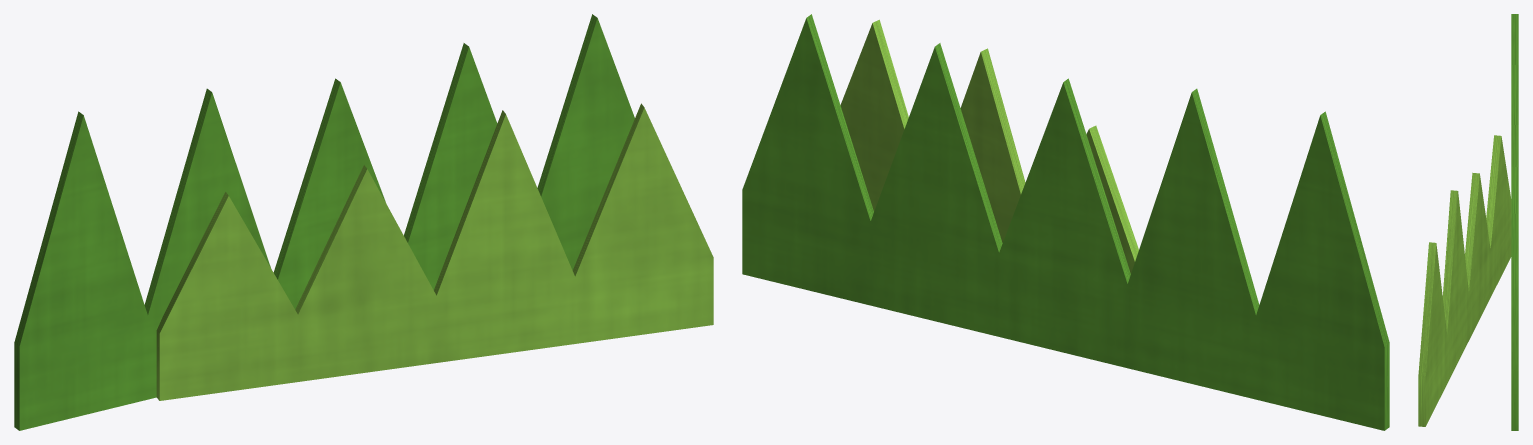
Rendered from grass_tuft_01.gltf.
3 renders of one model, left to right at view 1: azimuth 30°, elevation 25°; view 2: azimuth 150°, elevation 25°; view 3: azimuth 270°, elevation 25°, orthographic. The views are drawn at different scales.
Parts seen in each view (by area): view 1: grass_tuft_01; view 2: grass_tuft_01; view 3: grass_tuft_01.
Part boxes in pixels (bbox=[...]): grass_tuft_01: bbox=[14, 14, 713, 430]; grass_tuft_01: bbox=[742, 14, 1389, 430]; grass_tuft_01: bbox=[1418, 14, 1518, 430].
Size of the model in its own units: 0.7 by 0.3125 by 0.1326.
Materials: 2 (2 with a texture image).
